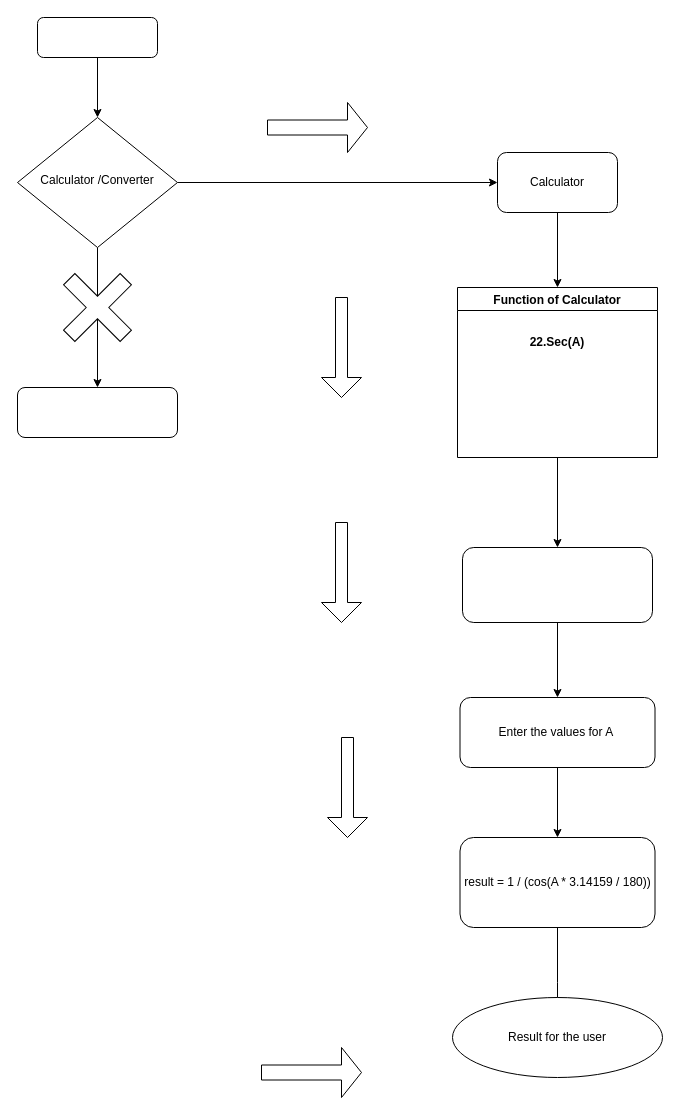
Some shapes in this 680 by 1115 pixel diagram are drawn without their labels. Each missing label, with the centre of its shape:
Converter: the point at 97,412
Move to Selected Function Sec of (A): the point at 557,584
User interface: the point at 97,37
